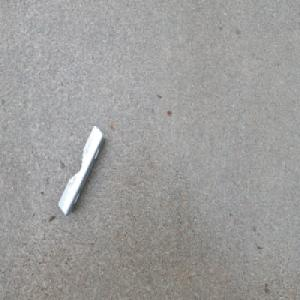ClampPart: (57, 123, 106, 218)
